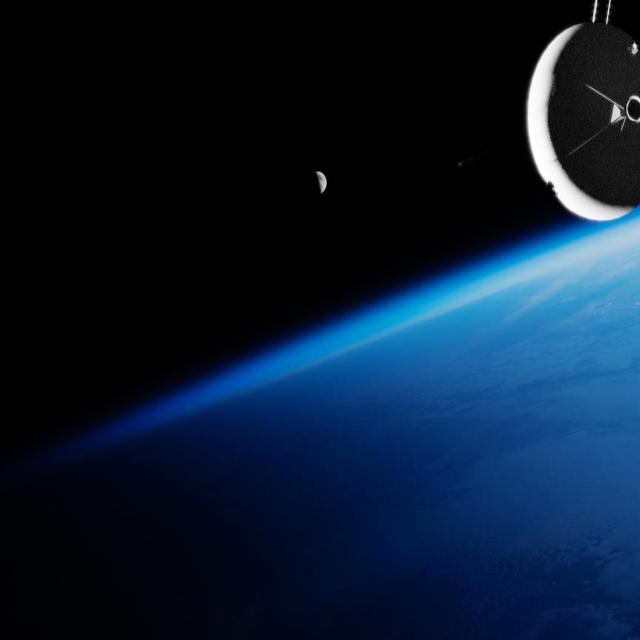satellite: (523, 0, 640, 256)
